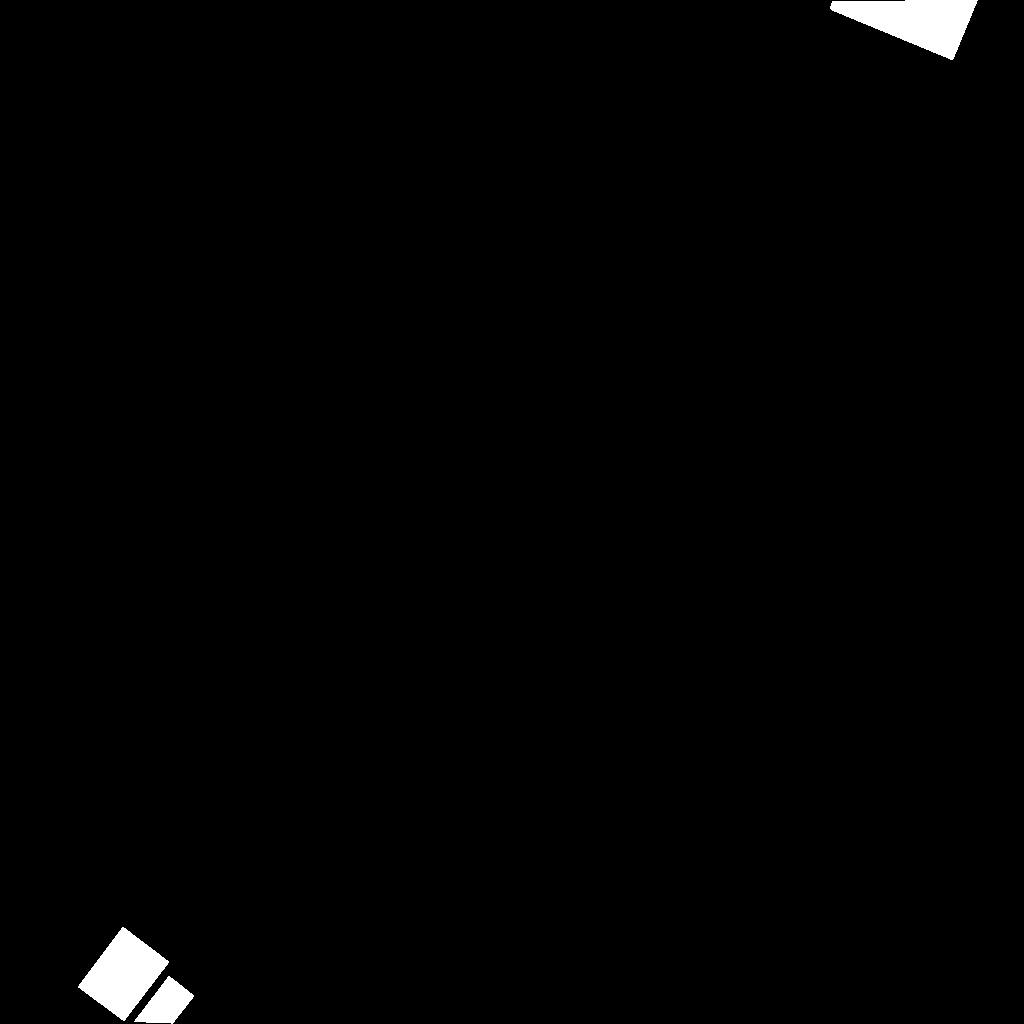building: (830, 0, 979, 61), (78, 927, 170, 1022), (134, 976, 195, 1024)
